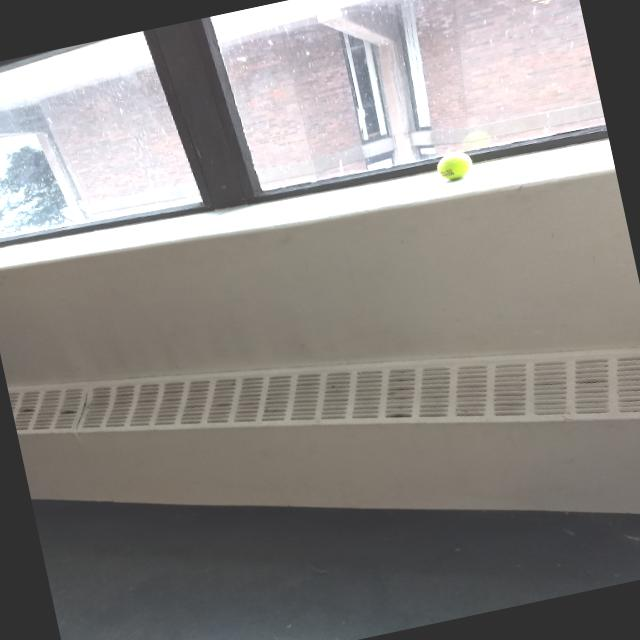tennis-ball: (428, 146, 478, 184)
